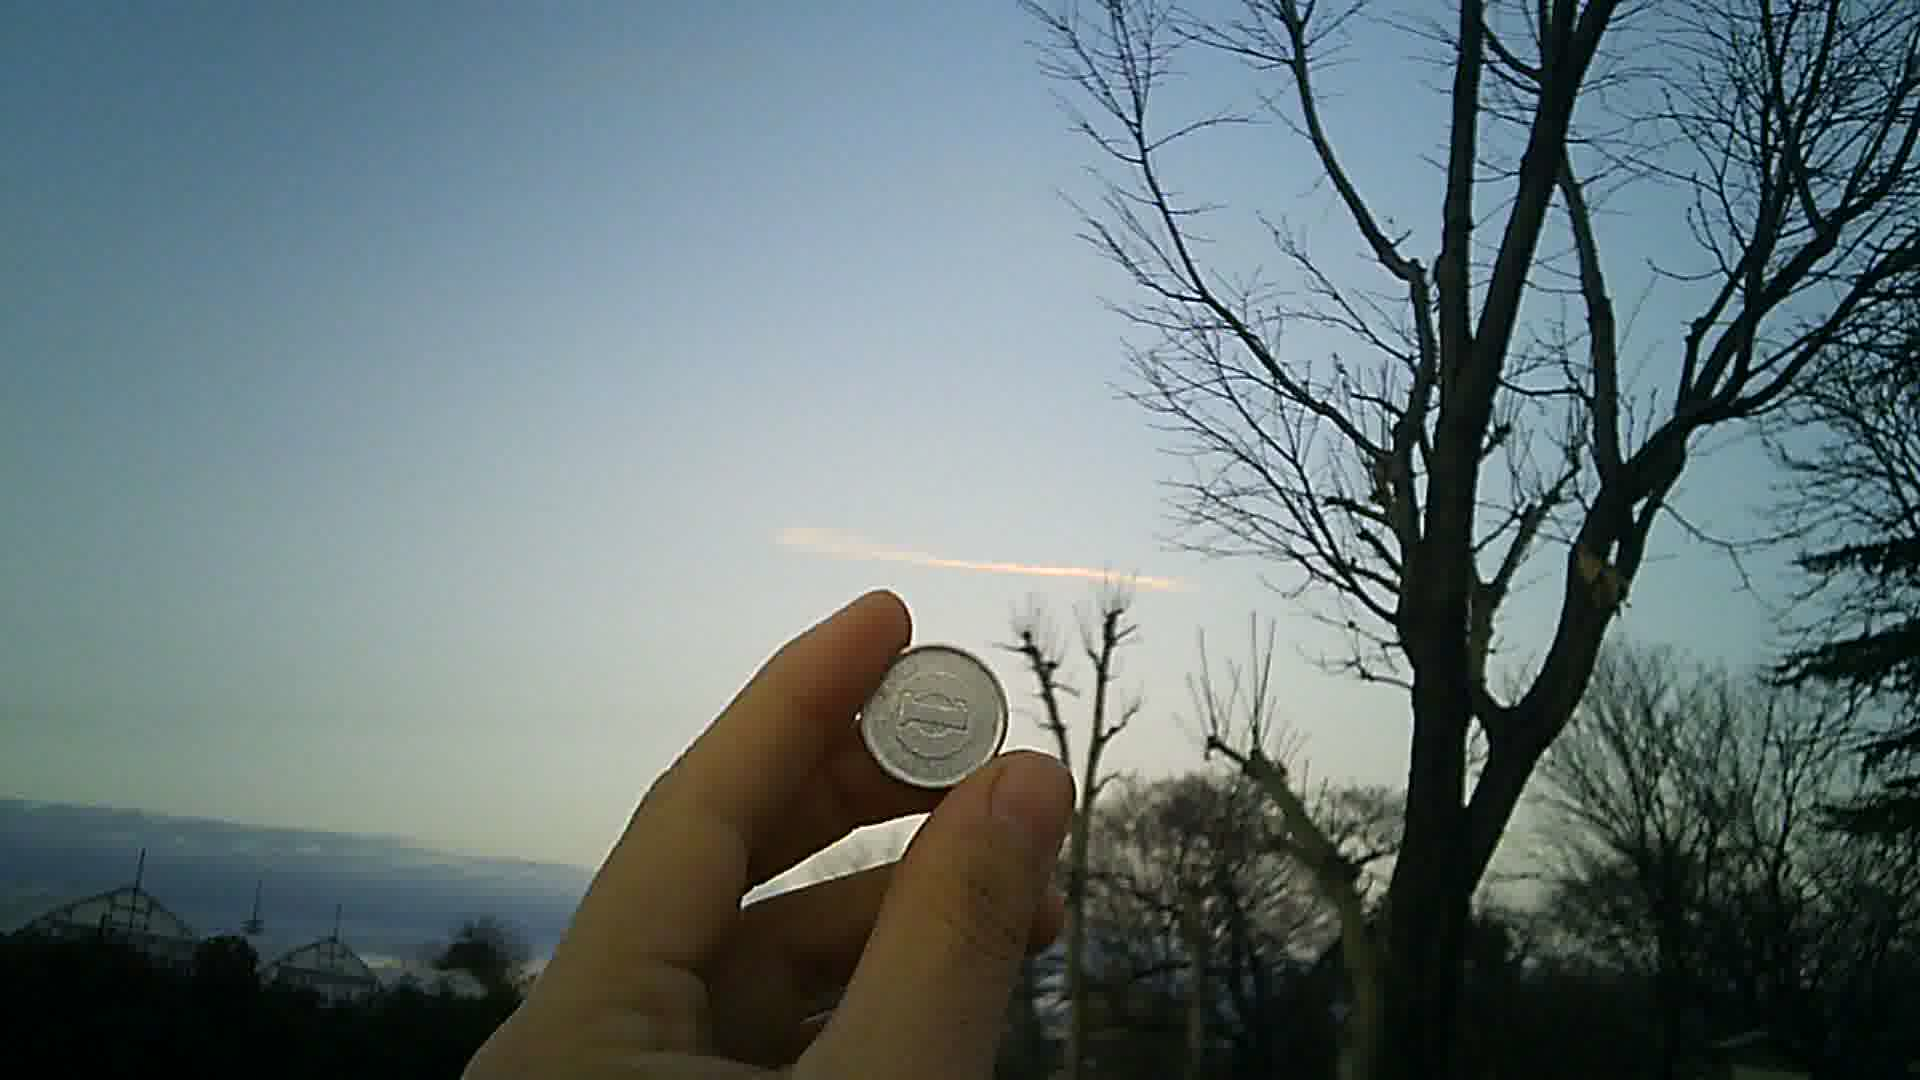1 Yen: (852, 634, 1014, 782)
